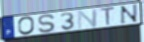3: (60, 12, 76, 30)
N: (77, 8, 99, 30), (119, 3, 140, 26)
O: (18, 16, 36, 36)
S: (37, 13, 57, 34)
T: (100, 6, 116, 27)
